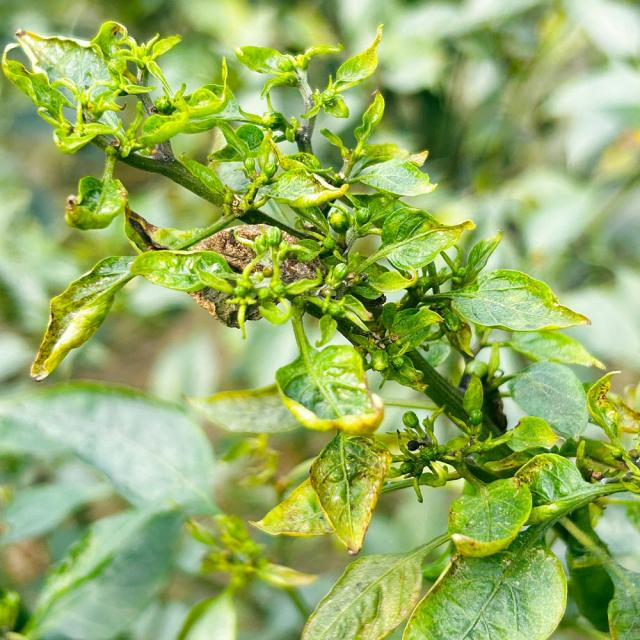Chilli_Leaf_Curl: (1, 17, 638, 638), (185, 222, 325, 332), (29, 254, 139, 382), (308, 429, 392, 555), (446, 268, 590, 334), (446, 476, 533, 558), (508, 360, 590, 441)
